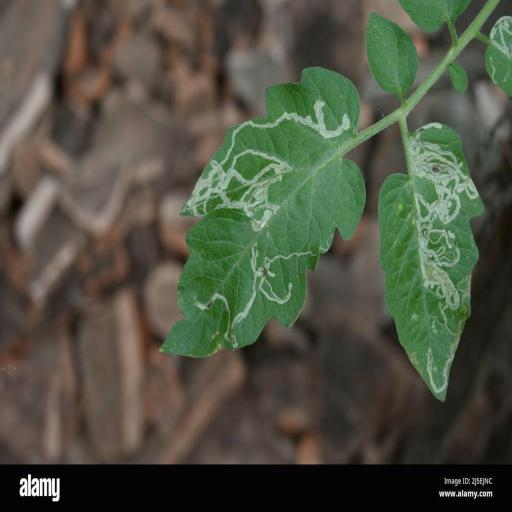Healthy: (362, 8, 420, 100)
Leaf Miner: (154, 63, 366, 360), (376, 117, 486, 407)
